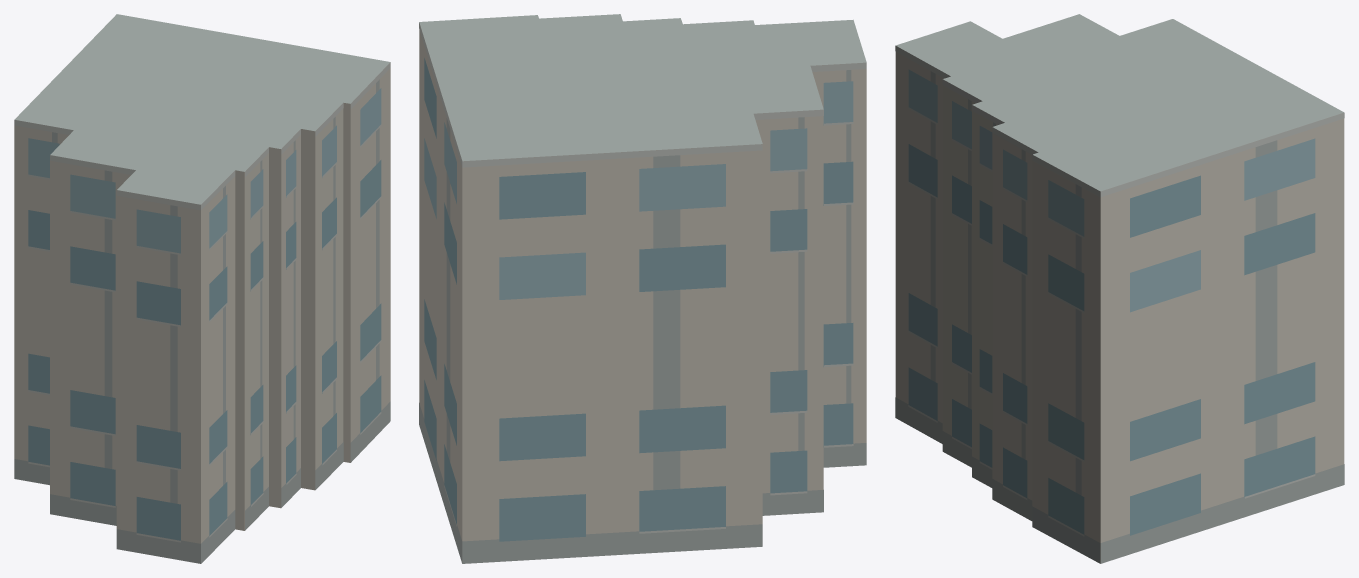
Rendered from survey-upis-32636773.glb.
The picture shows the model from 3 angles, left to right: view 1: azimuth 30°, elevation 25°; view 2: azimuth 150°, elevation 25°; view 3: azimuth 270°, elevation 25°; orthographic projection. The views are drawn at different scales.
Parts seen in each view (by area): view 1: survey-upis-32636773.tmp; view 2: survey-upis-32636773.tmp; view 3: survey-upis-32636773.tmp.
Boxes of the visible parts, x1=… form: survey-upis-32636773.tmp: x1=14, y1=14, x2=390, y2=563; survey-upis-32636773.tmp: x1=419, y1=14, x2=866, y2=563; survey-upis-32636773.tmp: x1=895, y1=14, x2=1344, y2=563.
Size of the model in its own units: 15.59 by 15.25 by 16.67.
